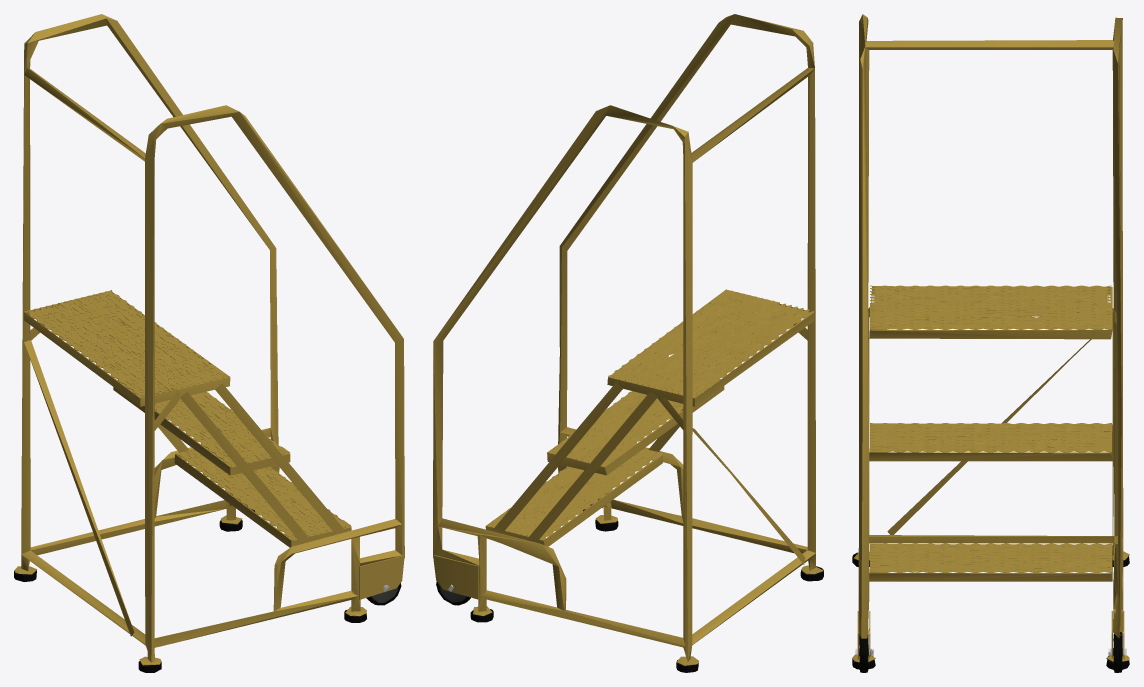
Rendered from tiltandrollladder_a02.glb.
The picture shows the model from 3 angles, left to right: view 1: azimuth 30°, elevation 25°; view 2: azimuth 150°, elevation 25°; view 3: azimuth 270°, elevation 25°; orthographic projection.
Visible parts, largest first — view 1: root; view 2: root; view 3: root.
Boxes of the visible parts, <box> form: root: <box>14,14,404,672</box>; root: <box>433,14,823,672</box>; root: <box>852,14,1129,672</box>.
Bounding box in the file's own units: 0.778 × 1.53 × 0.6945.
4 materials, 4 textured.
